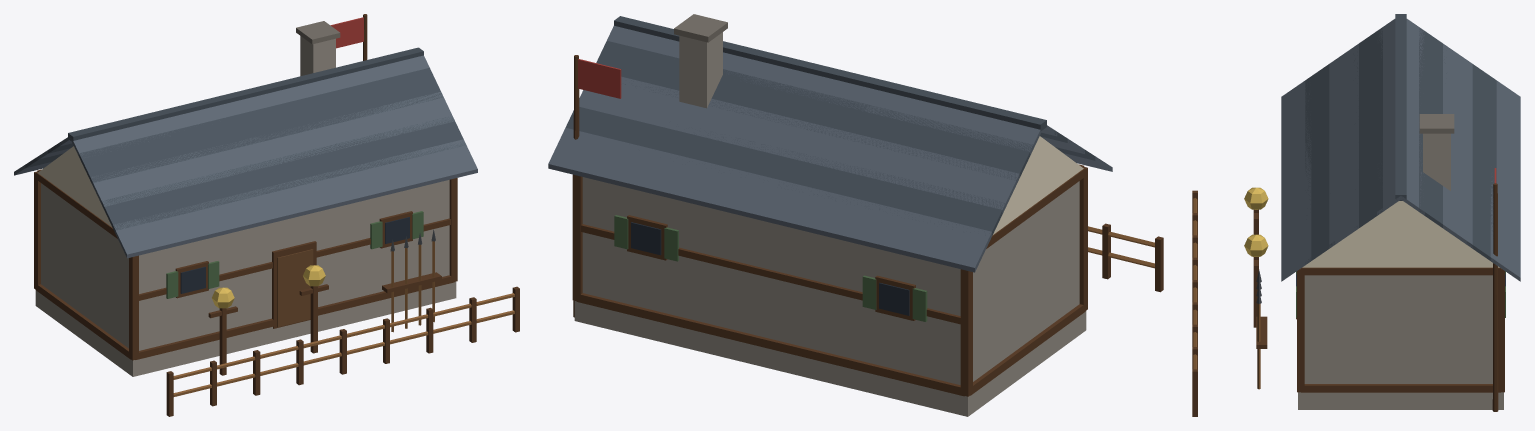
Rendered from barracks.glb.
3 views of the same model, side by side, from view 1: azimuth 30°, elevation 25°; view 2: azimuth 150°, elevation 25°; view 3: azimuth 270°, elevation 25° (orthographic). The views are drawn at different scales.
Visible parts, largest first — view 1: barracks; view 2: barracks; view 3: barracks.
Part boxes in pixels (box(x1,y1,x2,y2)): barracks: box(14, 14, 519, 416); barracks: box(548, 14, 1163, 416); barracks: box(1192, 14, 1520, 416).
Size of the model in its own units: 7.7 by 4.98 by 5.9.
